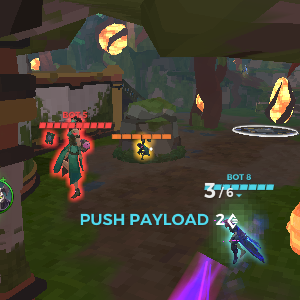model: (54, 118, 83, 198), (137, 135, 149, 162)
